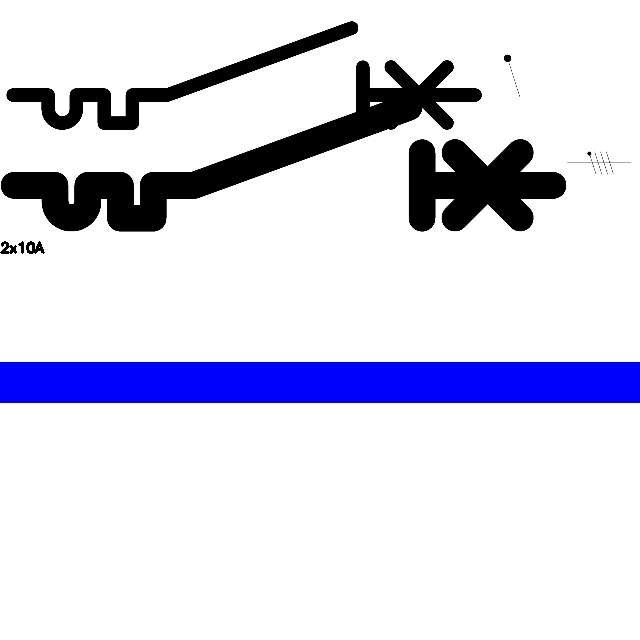interruptor_termomagnetico: (0, 93, 566, 232), (1, 16, 487, 135)
